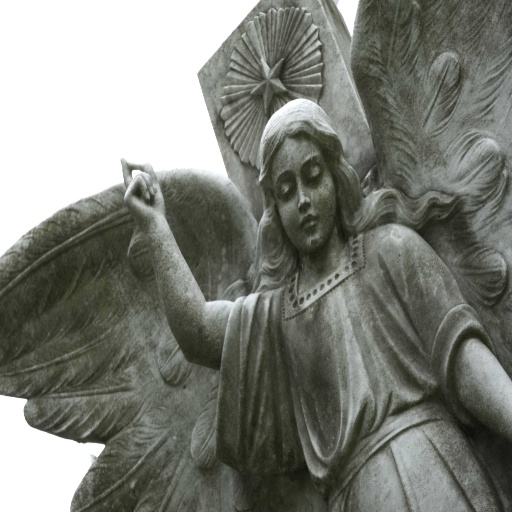hand: (120, 156, 174, 293)
